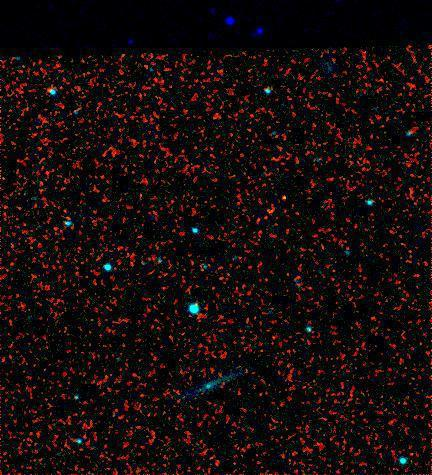star: (245, 381, 275, 411)
